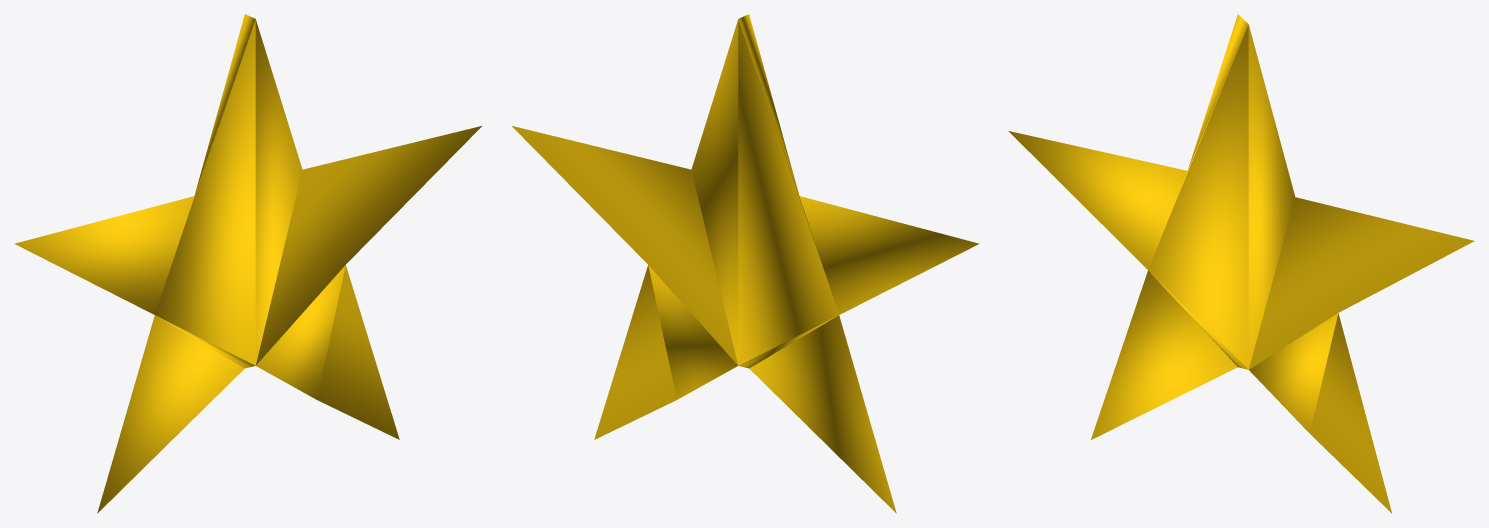
The model's file is star.glb.
The picture shows the model from 3 angles, left to right: view 1: azimuth 30°, elevation 25°; view 2: azimuth 150°, elevation 25°; view 3: azimuth 330°, elevation 25°; orthographic projection.
Parts seen in each view (by area): view 1: star; view 2: star; view 3: star.
Boxes of the visible parts, x1,y1,x2,y2 form: star: [14, 14, 481, 513]; star: [512, 14, 979, 513]; star: [1008, 14, 1474, 513].
Bounding box in the file's own units: 1 × 0.9462 × 0.
